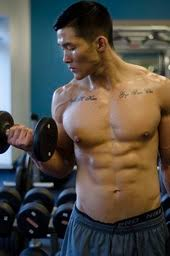asian_male: (44, 12, 120, 86)
